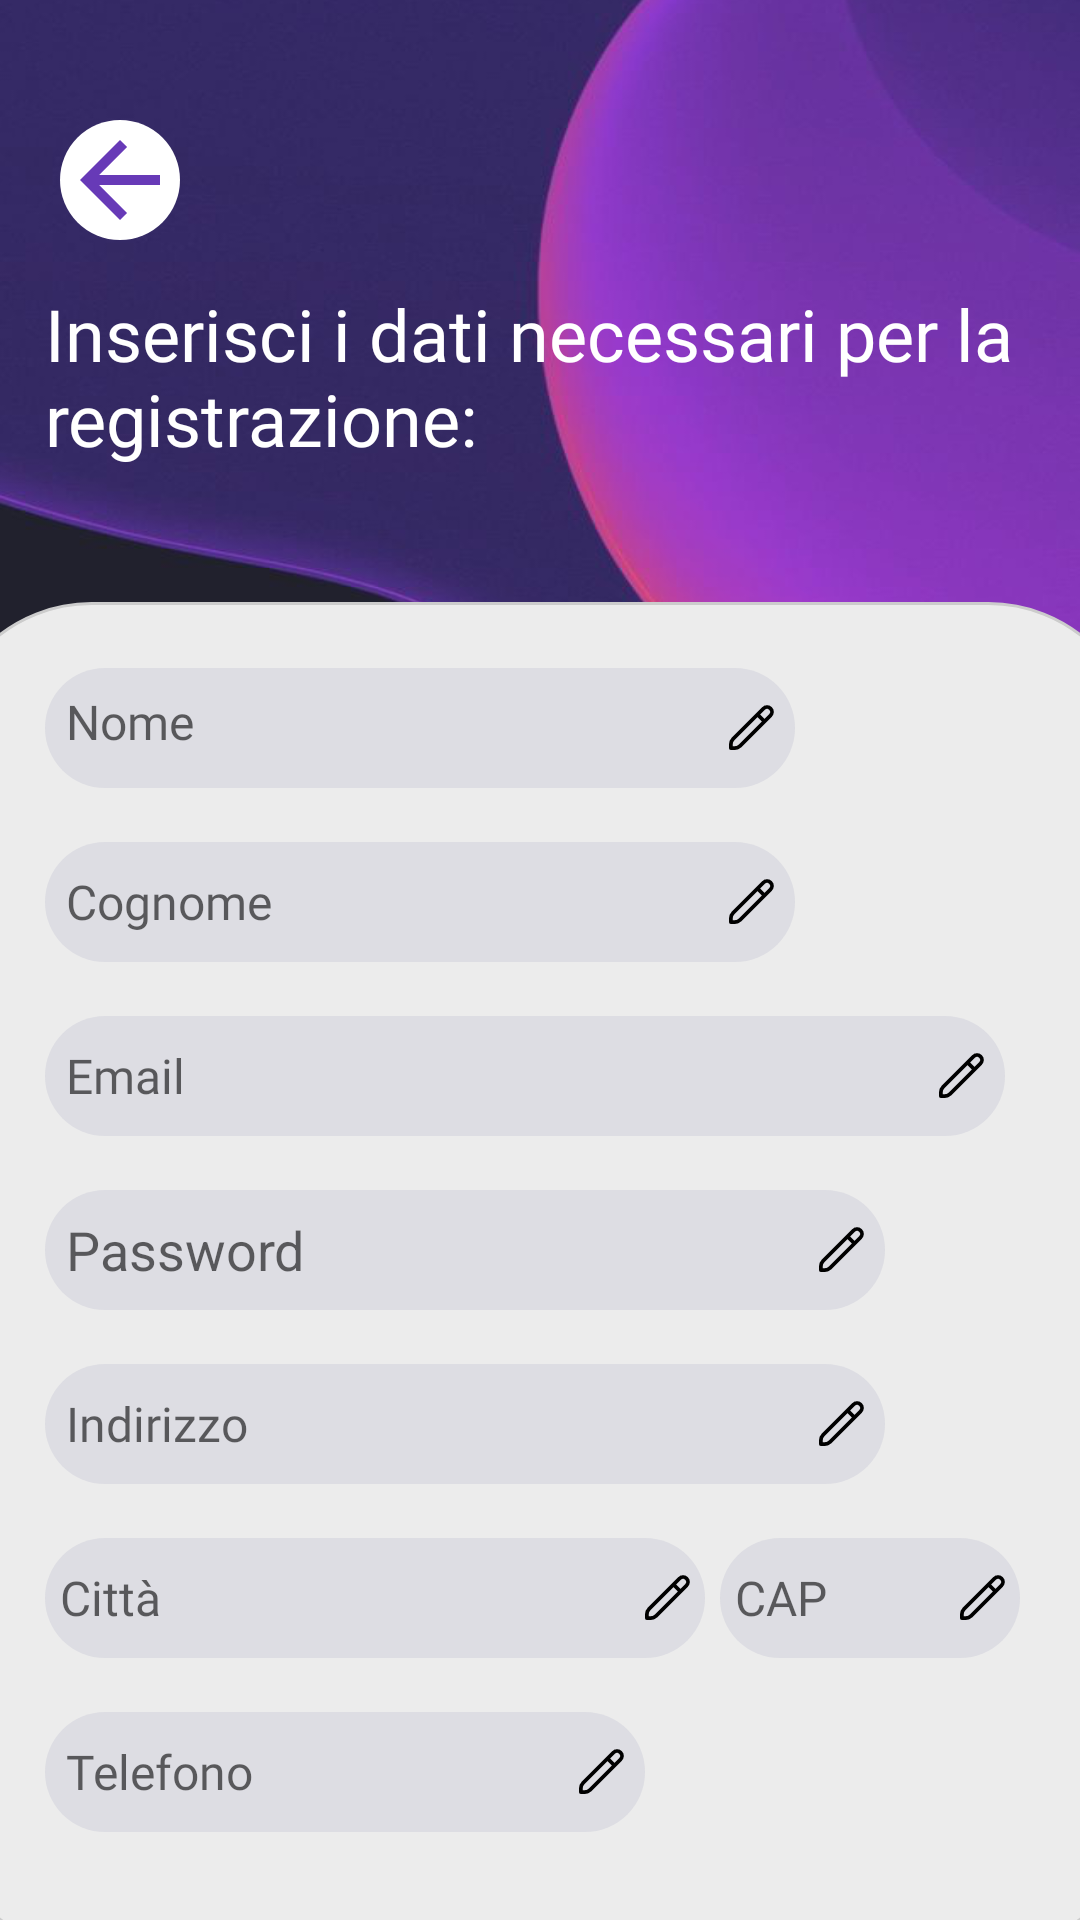

Point at icon controls on the screen. Image size 1080w x 1920h, points as point (x, y).
backarrow: point (120, 180)
